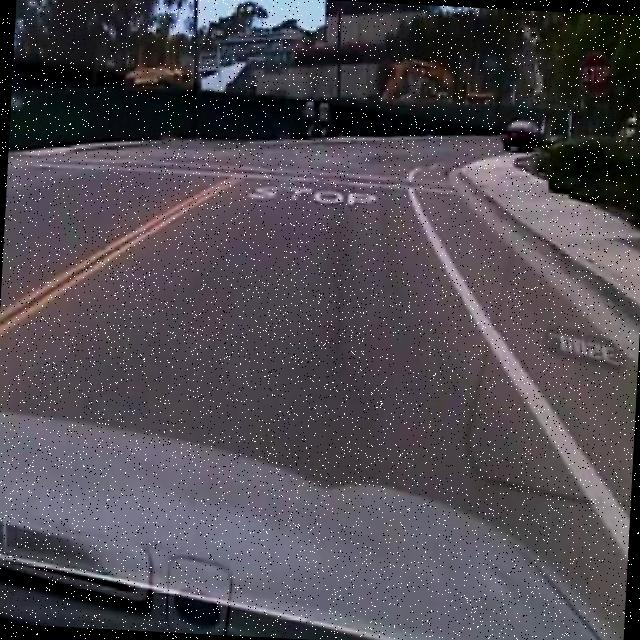Stop: (576, 50, 616, 100)
